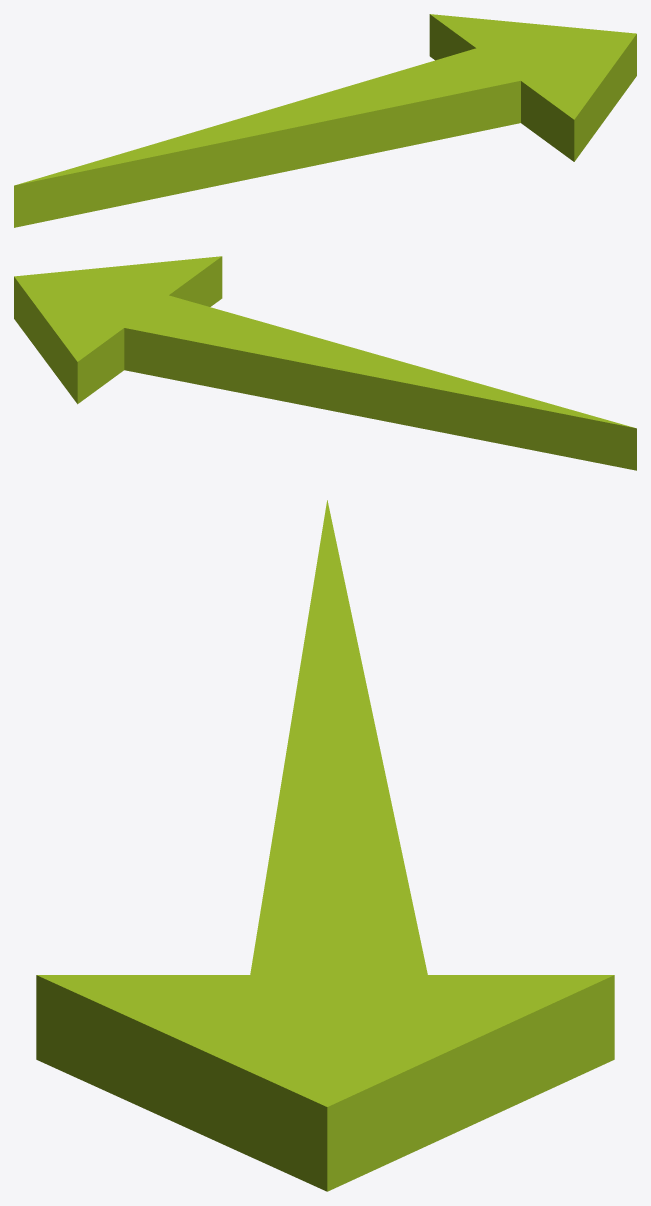
The picture shows the model from 3 angles, top to bottom: view 1: azimuth 30°, elevation 25°; view 2: azimuth 150°, elevation 25°; view 3: azimuth 270°, elevation 25°; orthographic projection. The views are drawn at different scales.
Parts seen in each view (by area): view 1: 静态箭头; view 2: 静态箭头; view 3: 静态箭头.
Part boxes in pixels (bbox=[...]): 静态箭头: bbox=[14, 14, 636, 227]; 静态箭头: bbox=[14, 256, 636, 470]; 静态箭头: bbox=[36, 500, 614, 1191].
Bounding box in the file's own units: 154 × 10 × 61.89.
